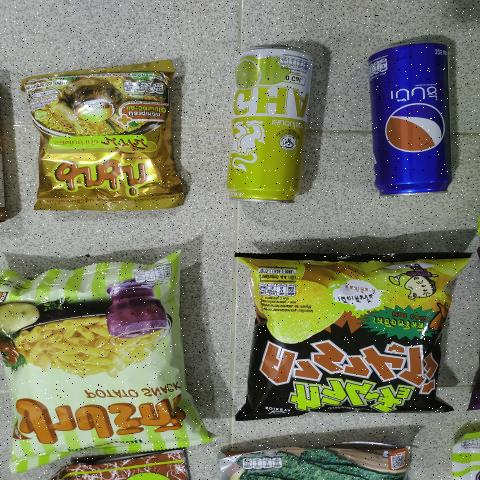karamujo: (232, 253, 453, 421)
mama: (36, 67, 175, 213)
paprika: (10, 258, 186, 455)
pepsi_blue: (352, 37, 469, 197)
singha_yellow: (223, 43, 314, 206)
